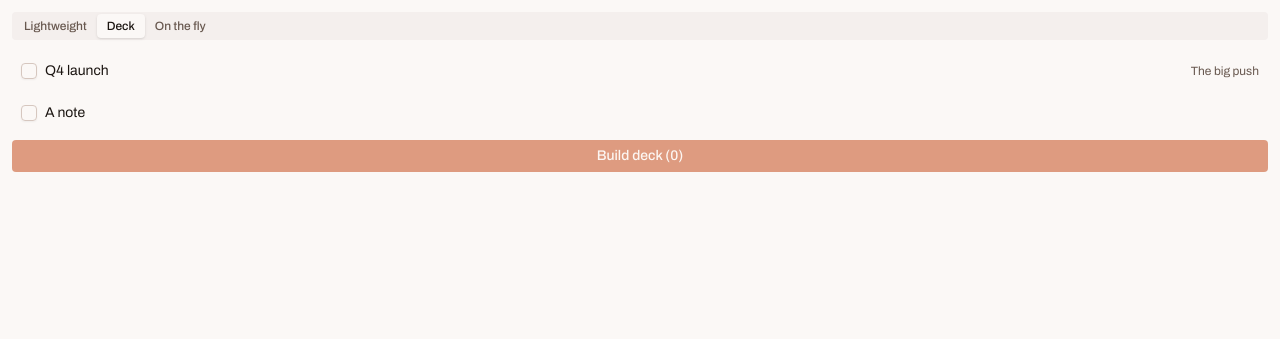
PresentPane — Deck mode › builds a deck from the checked nodes and shows the first slide
Click the checkbox named "Q4 launch" next to "Q4 launch": (29, 71) [21,63,37,79]
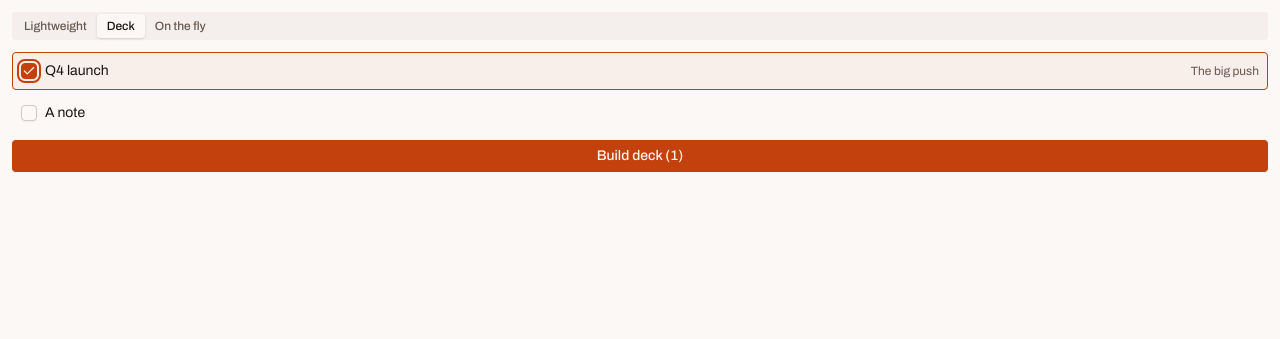
Click the button "Build deck (1)": (640, 156) [12,140,1268,172]
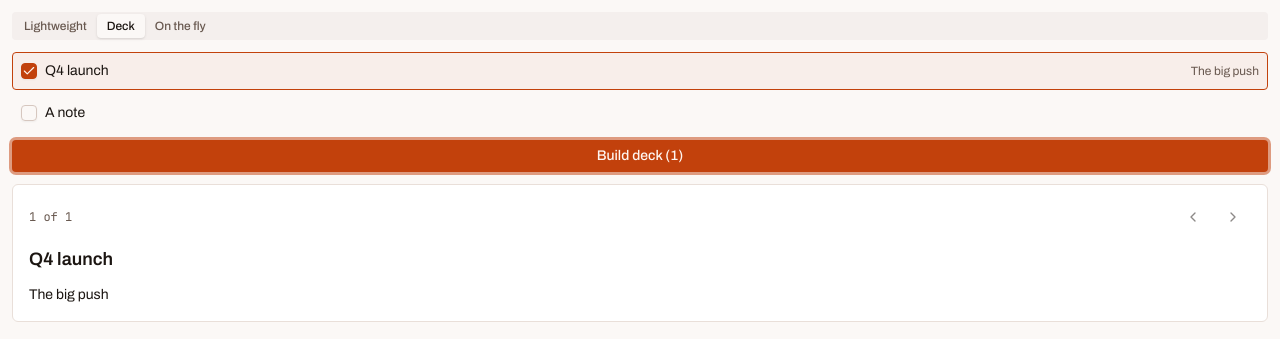
Expected: the text "1 of 1" is shown, [29,209,72,225]
Expected: the text "The big push" below "of" is shown, [29,287,109,302]
